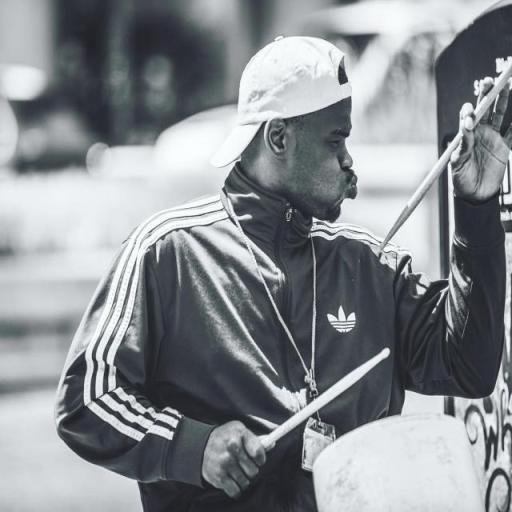Adidas: (324, 305, 358, 335)
